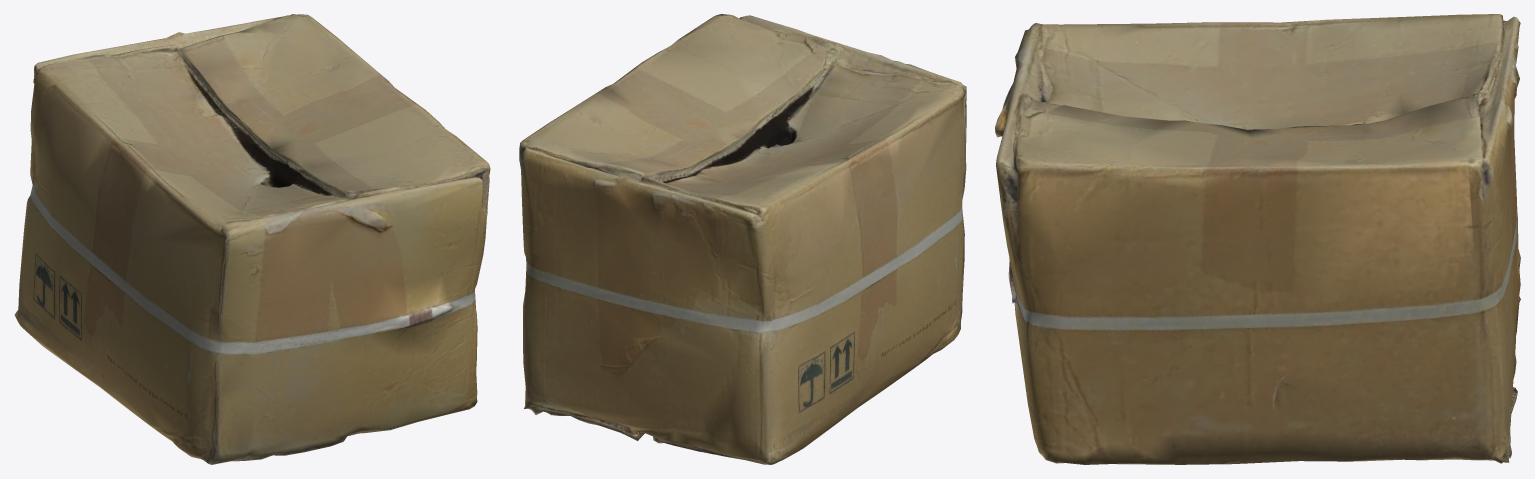
Rendered from obj-caja.54a8de.glb.
The picture shows the model from 3 angles, left to right: view 1: azimuth 30°, elevation 25°; view 2: azimuth 150°, elevation 25°; view 3: azimuth 270°, elevation 25°; orthographic projection. The views are drawn at different scales.
Parts seen in each view (by area): view 1: cardboard_box_01; view 2: cardboard_box_01; view 3: cardboard_box_01.
Part boxes in pixels (x1,y1,x2,y2): cardboard_box_01: (14, 14, 490, 464); cardboard_box_01: (519, 14, 966, 464); cardboard_box_01: (995, 14, 1520, 464).
Bounding box in the file's own units: 0.3867 × 0.3418 × 0.5159.
Materials: 1 (1 with a texture image).
